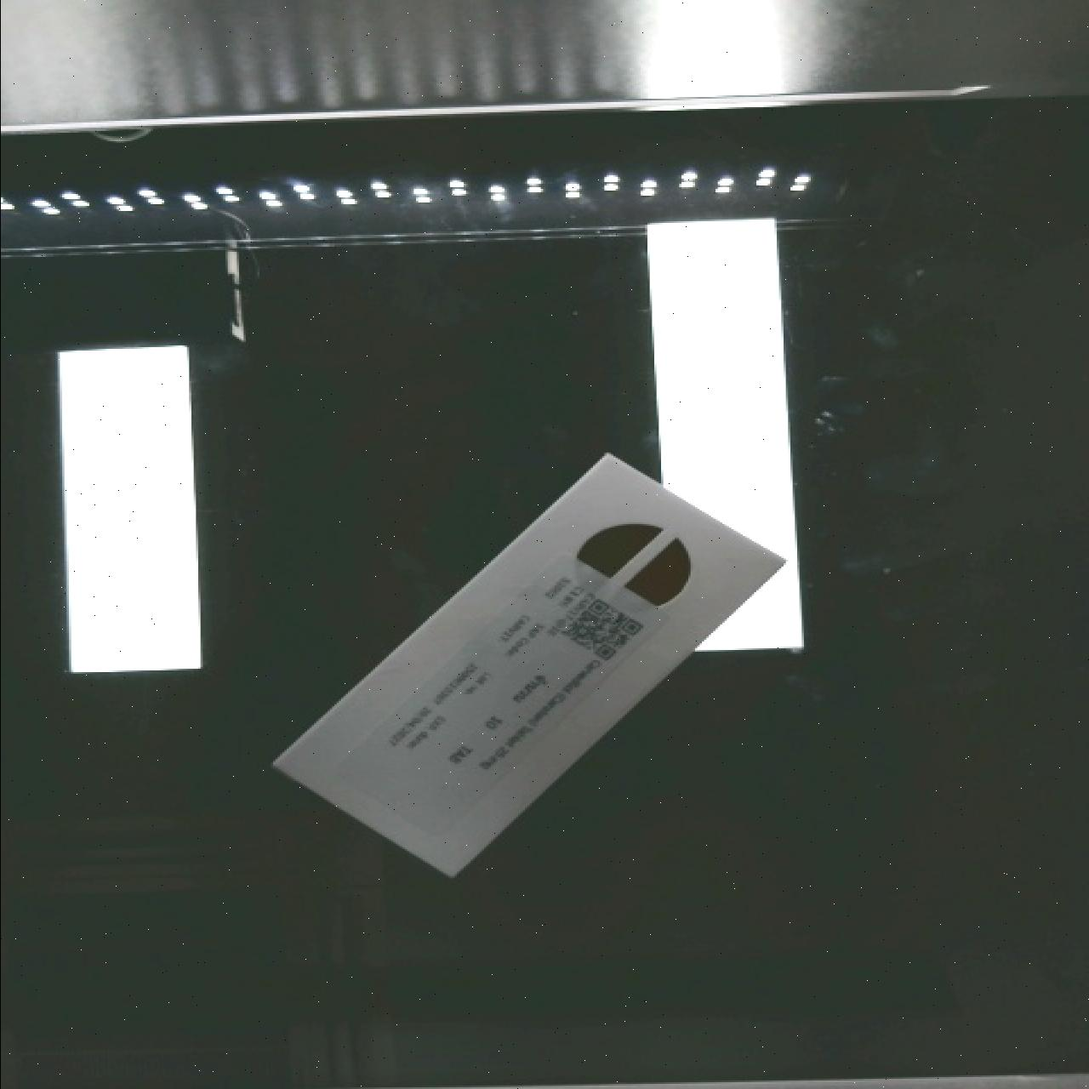qr_code: (550, 585, 663, 678)
